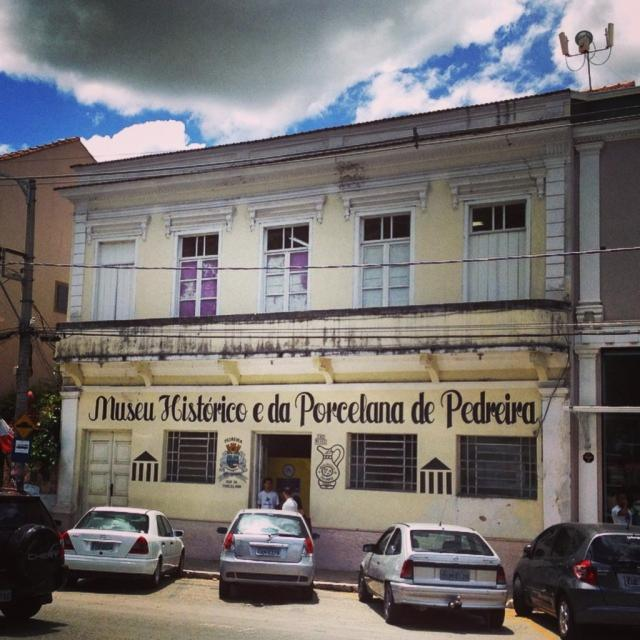car: (352, 522, 510, 628), (56, 507, 187, 580), (210, 506, 315, 597)
